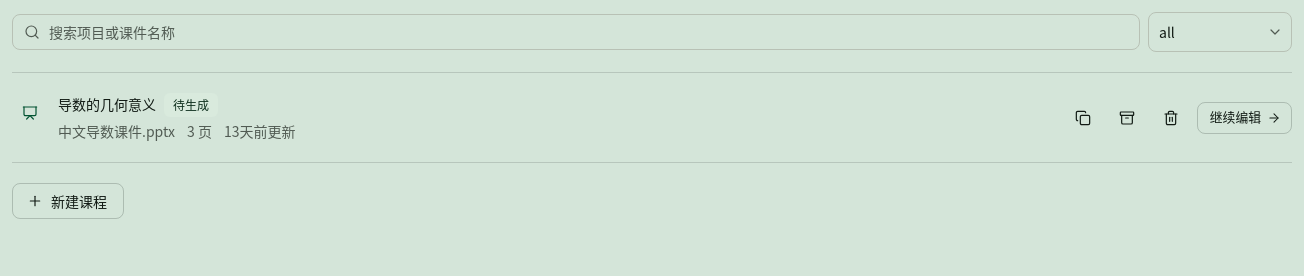
Scenario: ProjectList › forwards search to the adapter and copies through the same boundary
The width and height of the screenshot is (1304, 276).
Expected: the text "导数的几何意义" is shown, x1=58 y1=95 x2=156 y2=115
Type "导数" into the search field labelled "搜索项目" at (576, 32), box x1=12 y1=14 x2=1140 y2=50
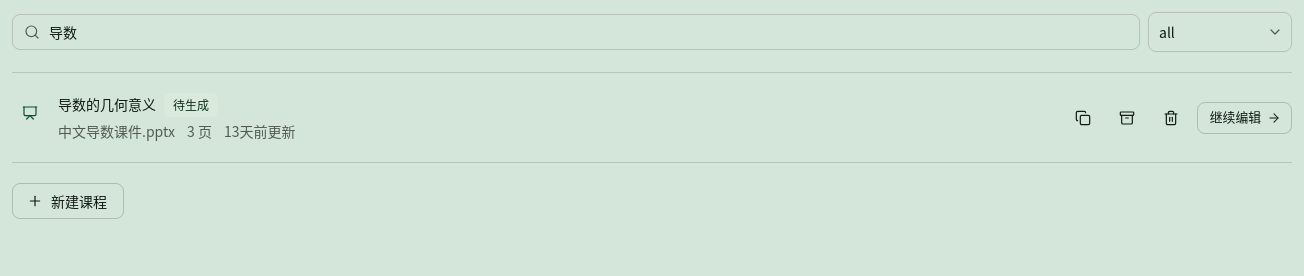
Click the button named "复制项目：导数的几何意义" at (1083, 118), box x1=1065 y1=100 x2=1101 y2=136
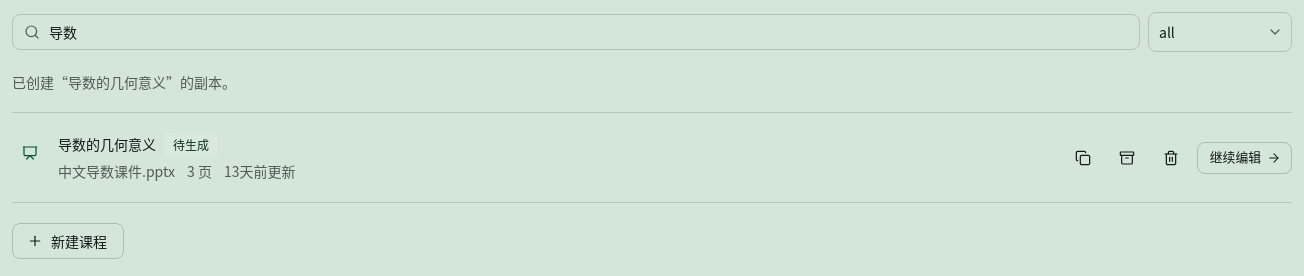
Expected: the text "已创建“导数的几何意义”的副本。" is shown, x1=12 y1=72 x2=236 y2=92
